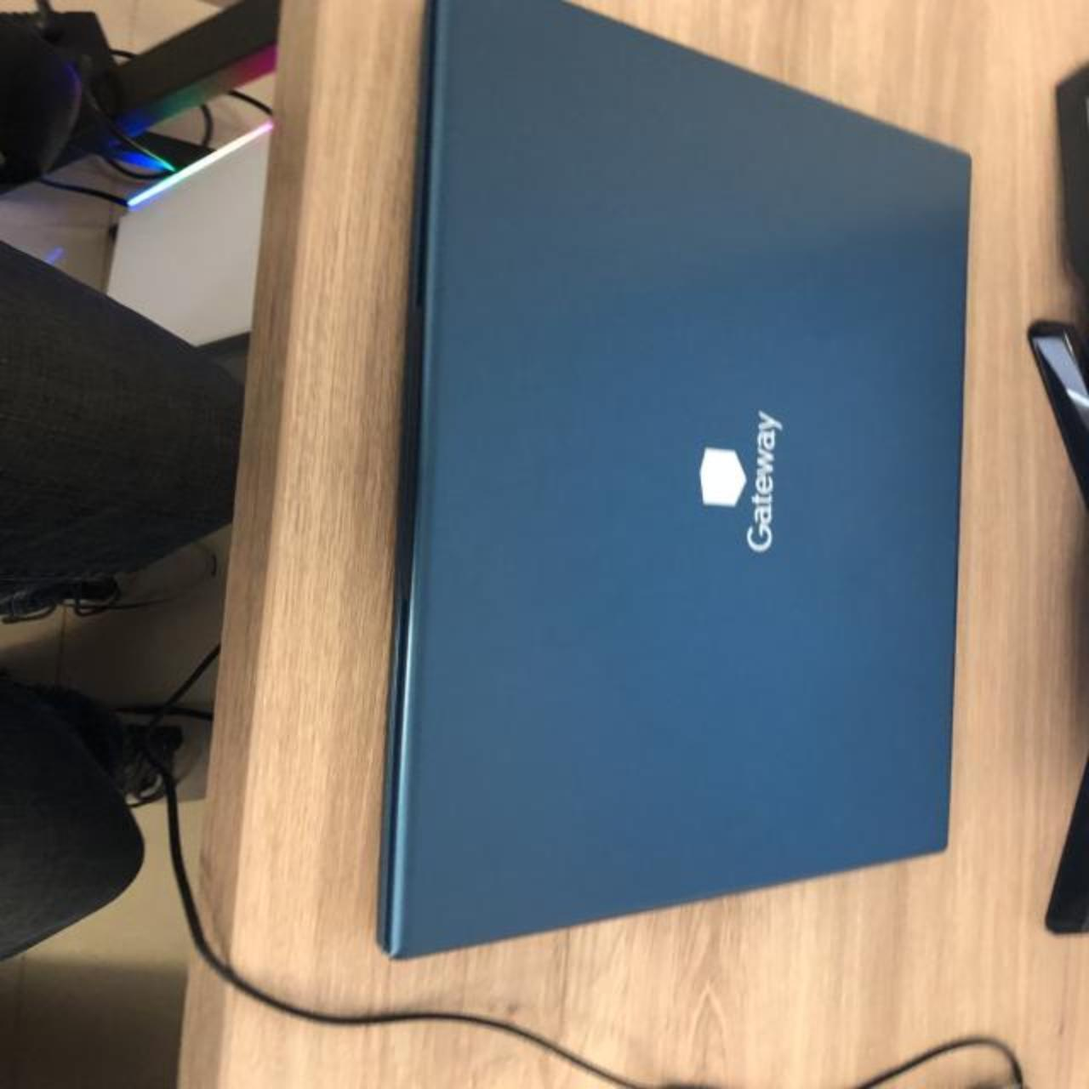laptop: (369, 0, 977, 960)
